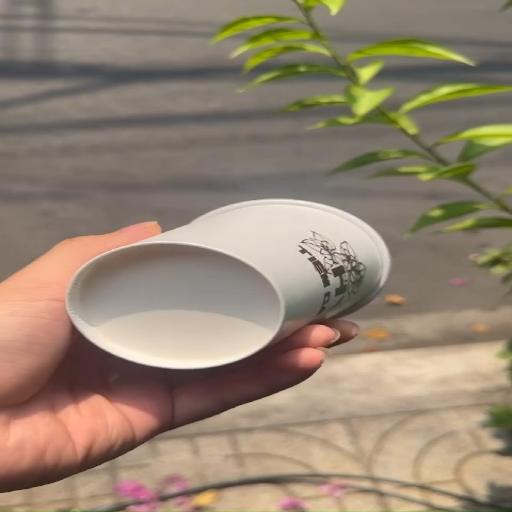Ly_giay: (66, 198, 389, 369)
